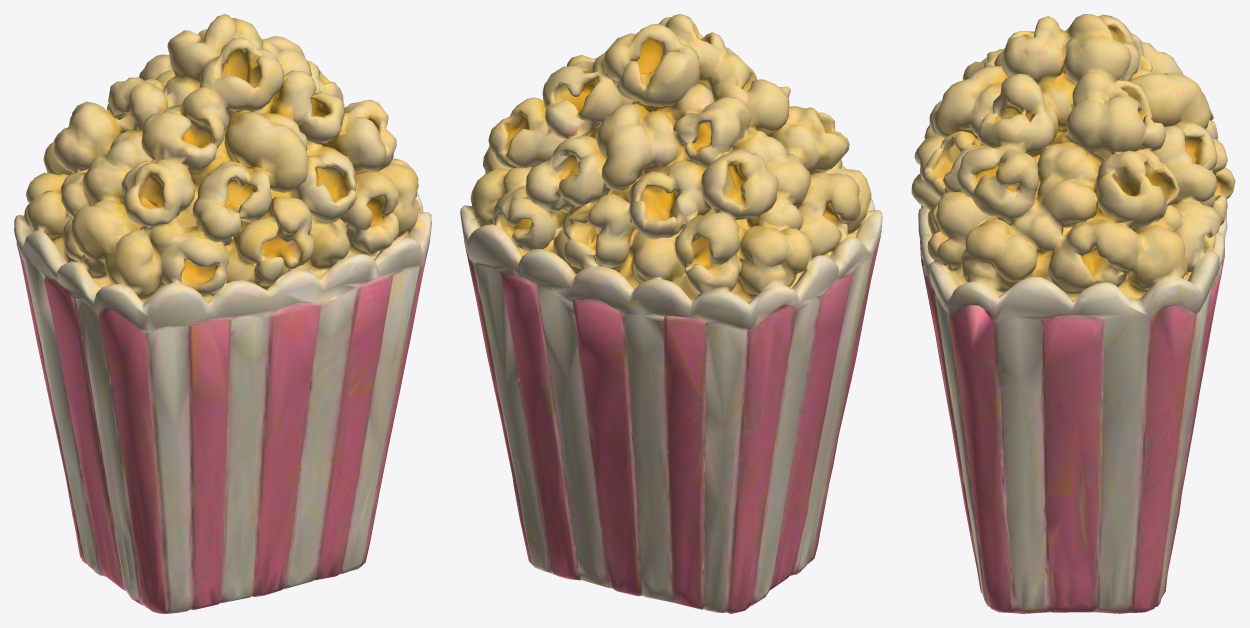
3 renders of one model, left to right at view 1: azimuth 30°, elevation 25°; view 2: azimuth 150°, elevation 25°; view 3: azimuth 270°, elevation 25°, orthographic. The views are drawn at different scales.
Size of the model in its own units: 1.26 by 1.9 by 1.01.
Materials: 1 (1 with a texture image).
